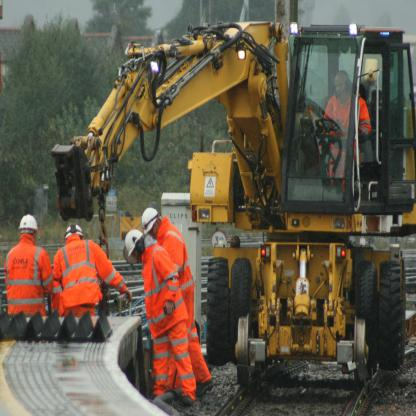helmet: (125, 229, 145, 256), (142, 207, 158, 233), (18, 214, 38, 233), (64, 224, 84, 238)
person: (125, 231, 197, 406), (6, 215, 52, 319), (54, 226, 104, 315), (325, 72, 373, 144), (143, 208, 189, 260)
vest: (141, 247, 188, 331), (54, 242, 102, 316), (5, 242, 50, 318), (157, 221, 194, 292)
